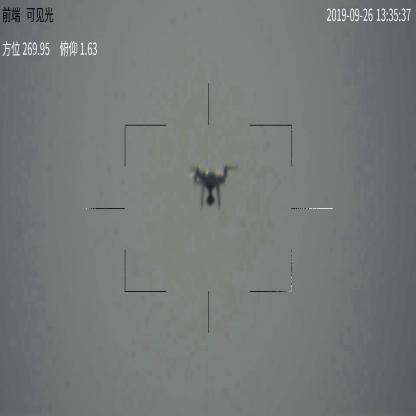uav: (186, 160, 234, 210)
